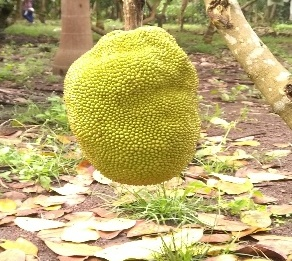Mit: (64, 28, 201, 184)
